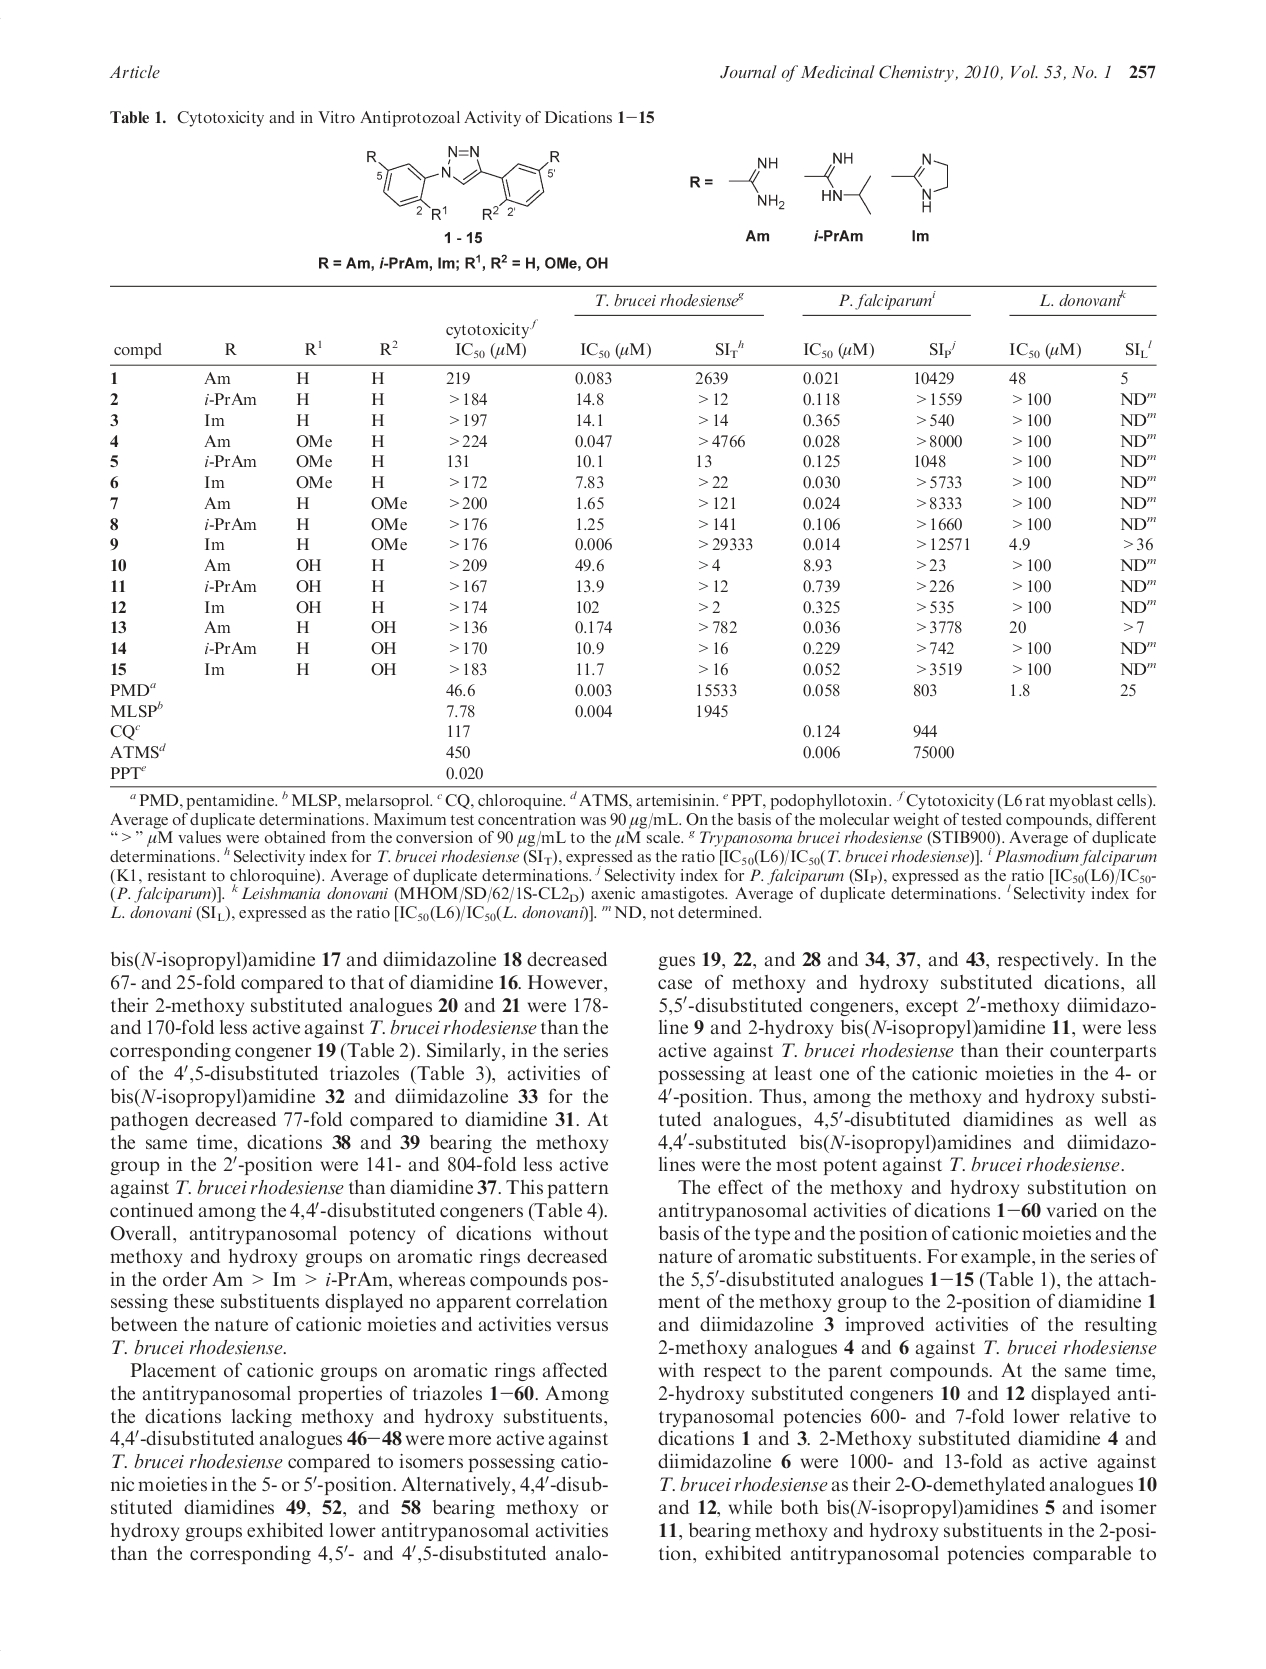exist_molecular: (364, 144, 563, 223), (803, 149, 875, 218), (890, 152, 952, 215), (727, 156, 787, 213)
